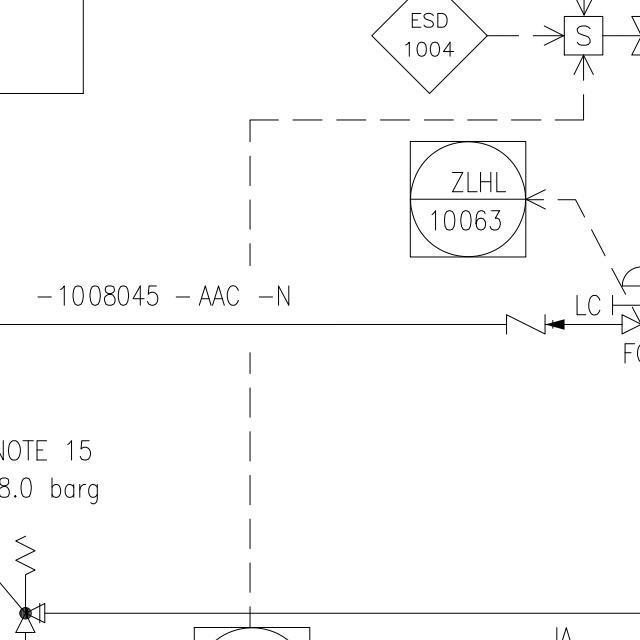RPV: (9, 528, 50, 634)
